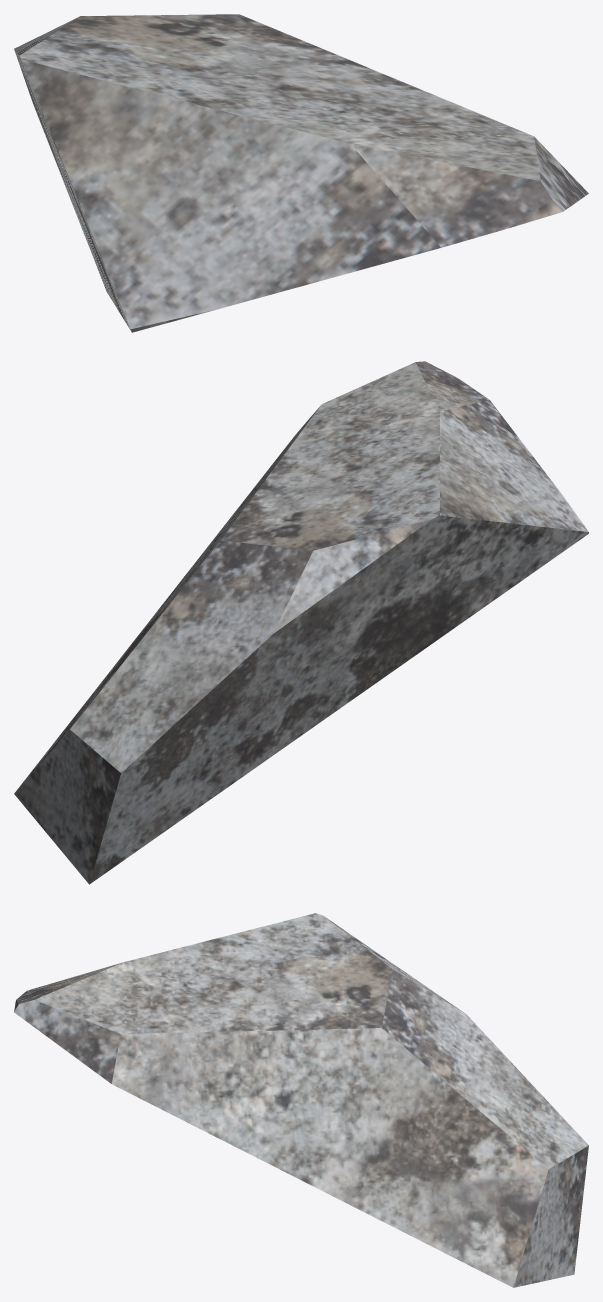
Rendered from Asteroid_Large_001_02_010_03_005.fbx.
The picture shows the model from 3 angles, top to bottom: view 1: azimuth 30°, elevation 25°; view 2: azimuth 150°, elevation 25°; view 3: azimuth 270°, elevation 25°; orthographic projection. The views are drawn at different scales.
Visible parts, largest first — view 1: Asteroid_Large_001_02_010_03_005; view 2: Asteroid_Large_001_02_010_03_005; view 3: Asteroid_Large_001_02_010_03_005.
Boxes of the visible parts, <box> form: Asteroid_Large_001_02_010_03_005: <box>14,14,588,332</box>; Asteroid_Large_001_02_010_03_005: <box>14,361,588,884</box>; Asteroid_Large_001_02_010_03_005: <box>14,913,588,1287</box>.
Bounding box in the file's own units: 7.99 × 6.75 × 12.84.
